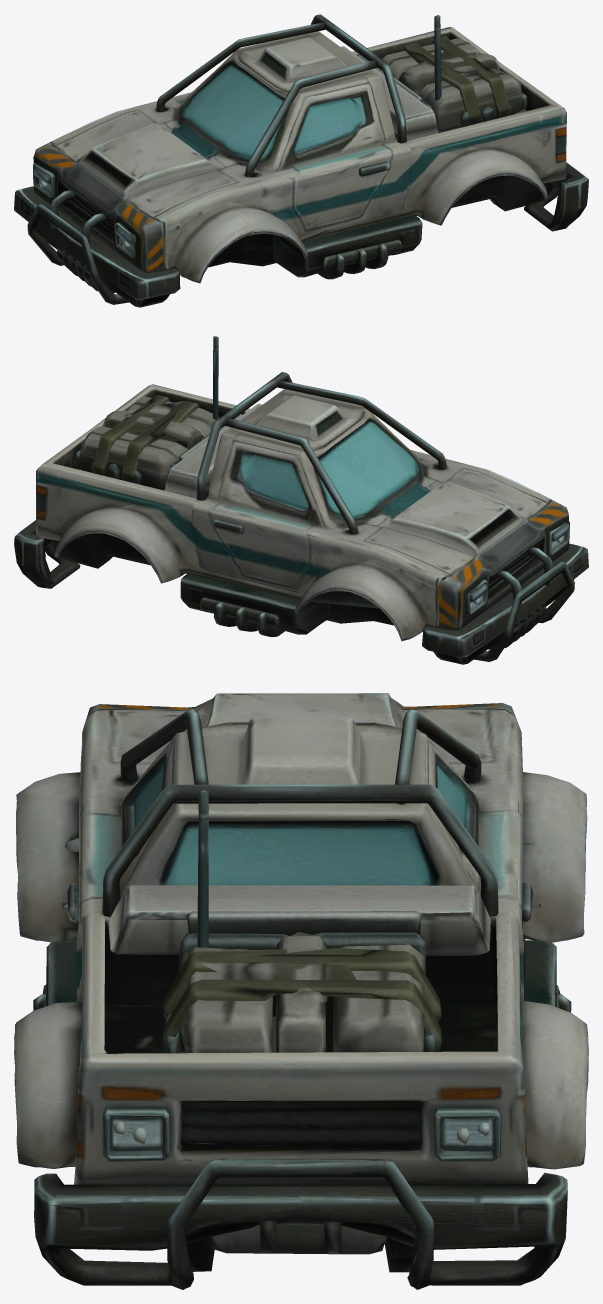
File: rover.glb
3 renders of one model, top to bottom at view 1: azimuth 30°, elevation 25°; view 2: azimuth 150°, elevation 25°; view 3: azimuth 270°, elevation 25°, orthographic. The views are drawn at different scales.
Visible parts, largest first — view 1: geometry_0; view 2: geometry_0; view 3: geometry_0.
Part boxes in pixels (box(x1,y1,x2,y2)): geometry_0: box(14, 14, 588, 307); geometry_0: box(14, 336, 588, 664); geometry_0: box(14, 693, 588, 1289).
Size of the model in its own units: 1 by 0.4341 by 0.5501.
Materials: 1 (1 with a texture image).
